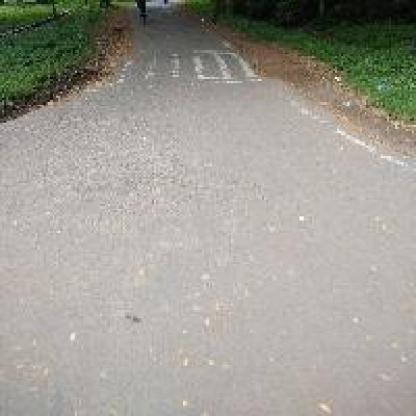Speed Bump: (119, 42, 264, 94)
